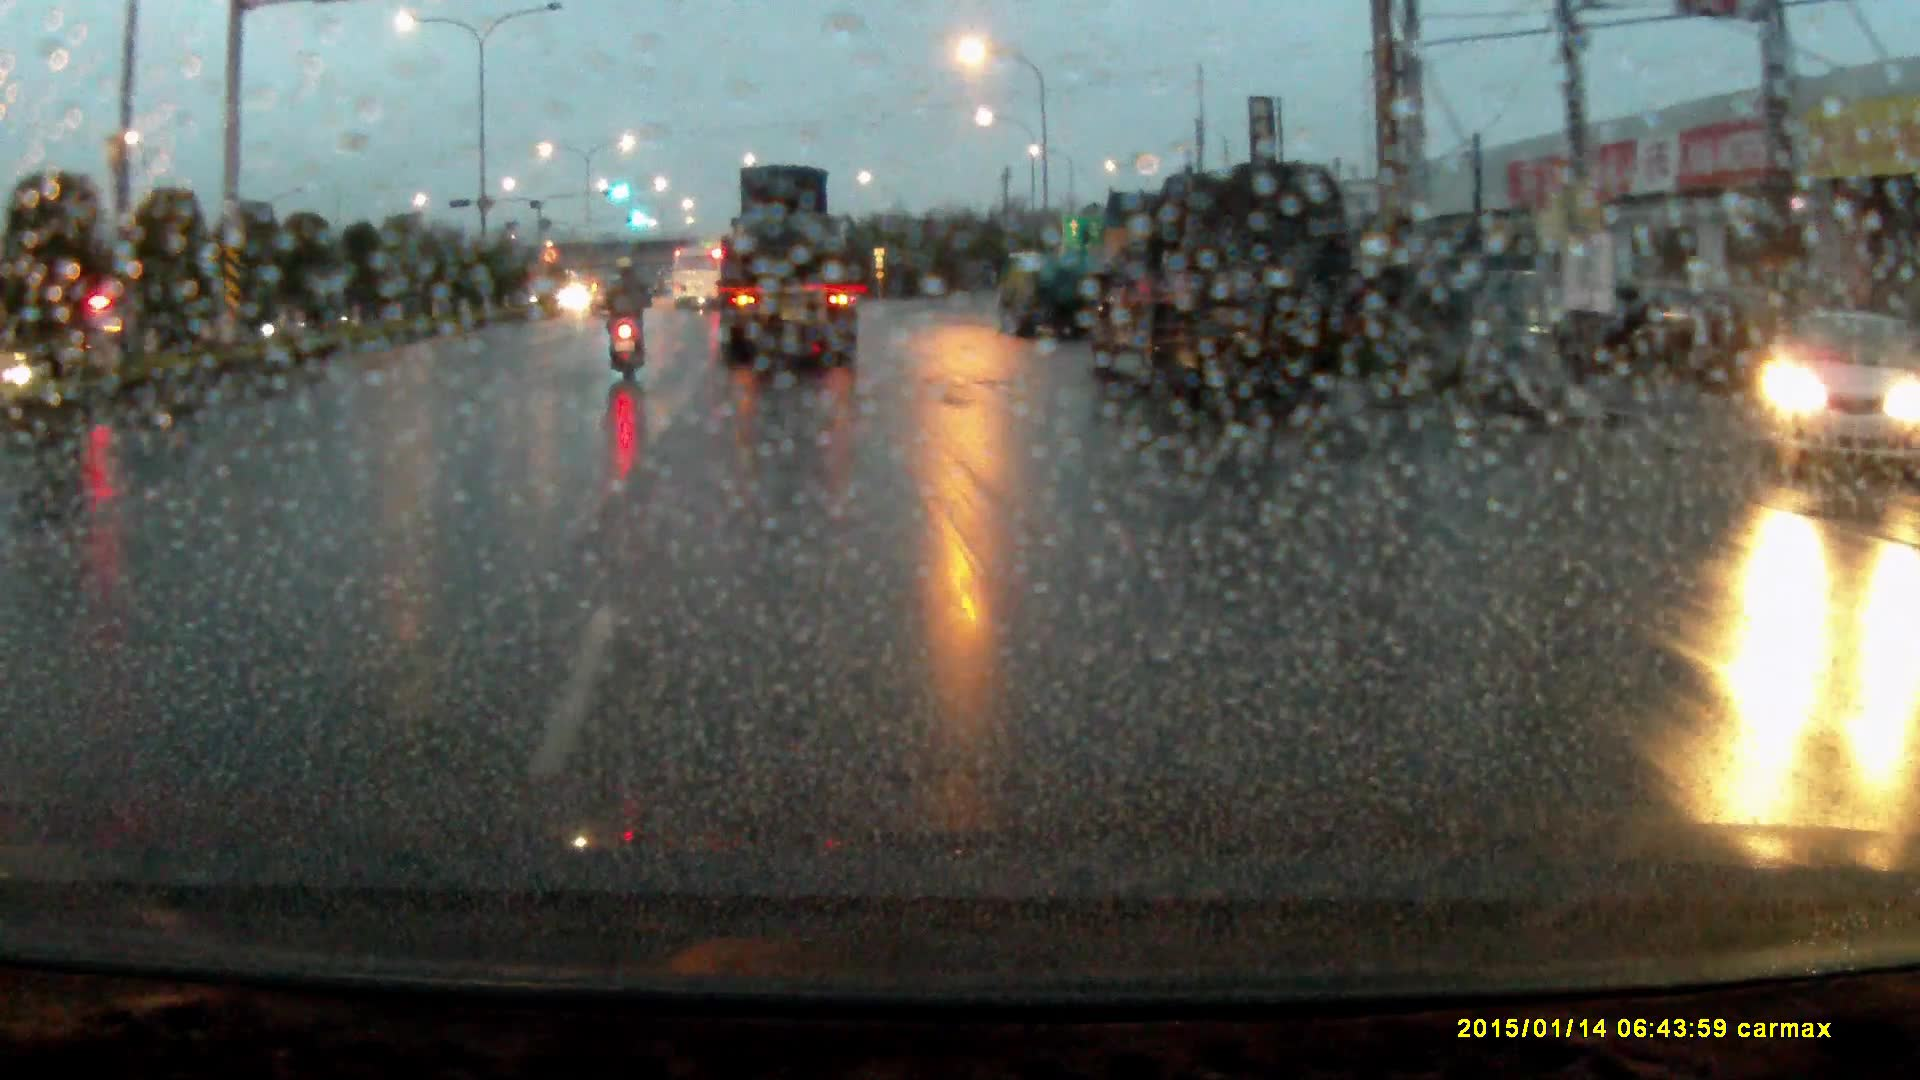rider: (602, 266, 657, 390)
vehicle: (1081, 170, 1358, 431), (717, 169, 861, 370), (1757, 311, 1914, 481), (997, 257, 1094, 347), (672, 254, 722, 319), (590, 282, 638, 326)
